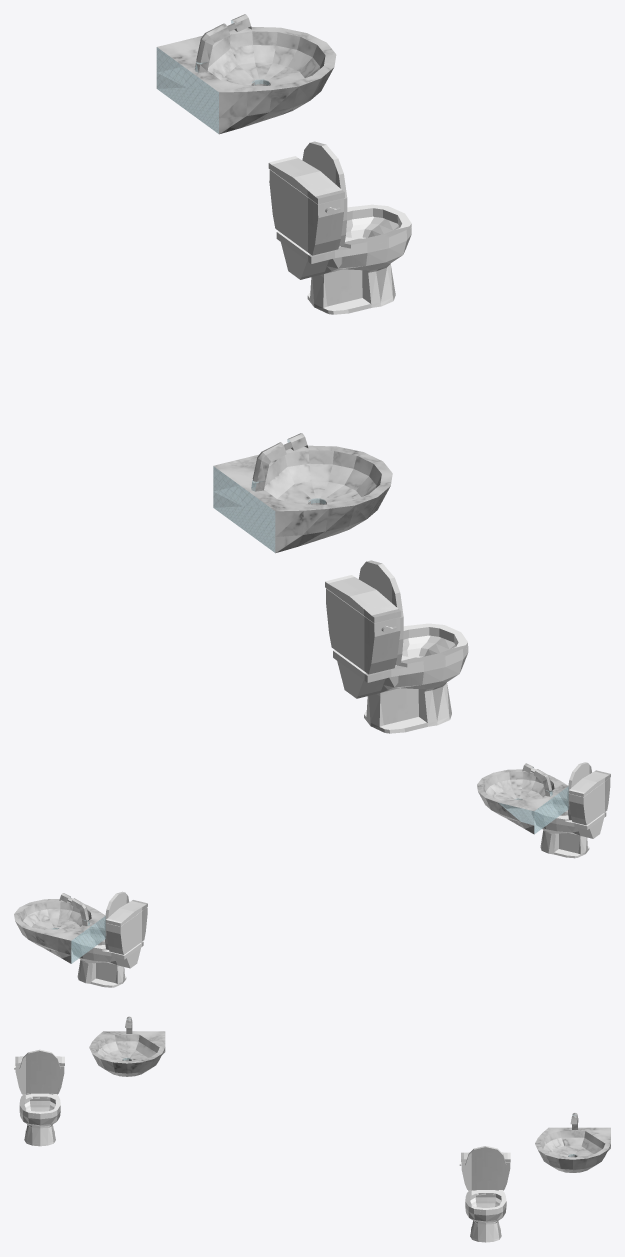
Rendered from 2bhk bath.gltf.
3 renders of one model, top to bottom at view 1: azimuth 30°, elevation 25°; view 2: azimuth 150°, elevation 25°; view 3: azimuth 270°, elevation 25°, orthographic. The views are drawn at different scales.
Parts seen in each view (by area): view 1: SketchUp; view 2: SketchUp; view 3: SketchUp.
Part boxes in pixels (x1=…): SketchUp: x1=156, y1=14, x2=468, y2=733; SketchUp: x1=14, y1=762, x2=610, y2=987; SketchUp: x1=14, y1=1016, x2=610, y2=1242.
Bounding box in the file's own units: 2.39 × 0.9884 × 4.74.
Materials: 3 (3 with a texture image).
